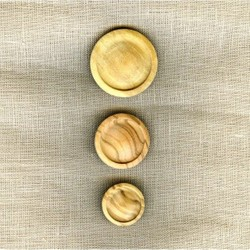Bouton: (89, 28, 158, 98), (93, 113, 151, 170), (101, 183, 145, 227)
